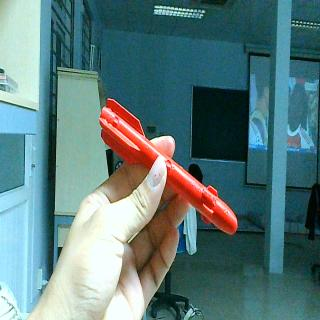Rocket: (99, 94, 238, 236)
